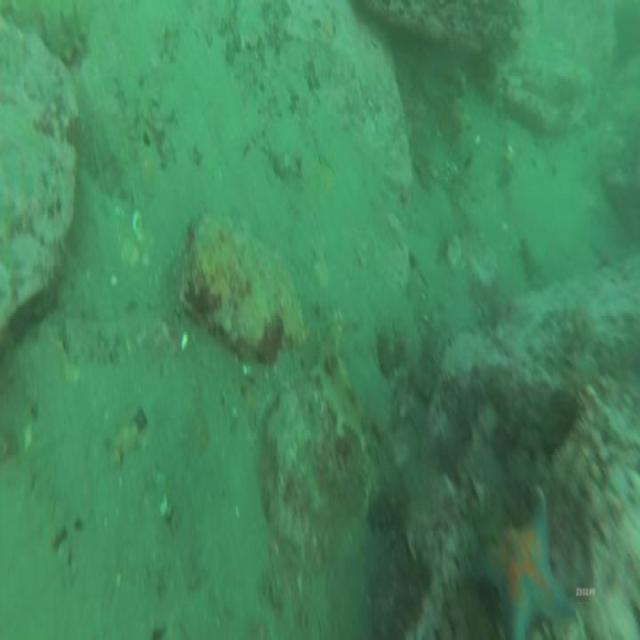holothurian: (318, 318, 374, 452)
starfish: (471, 485, 573, 640)
